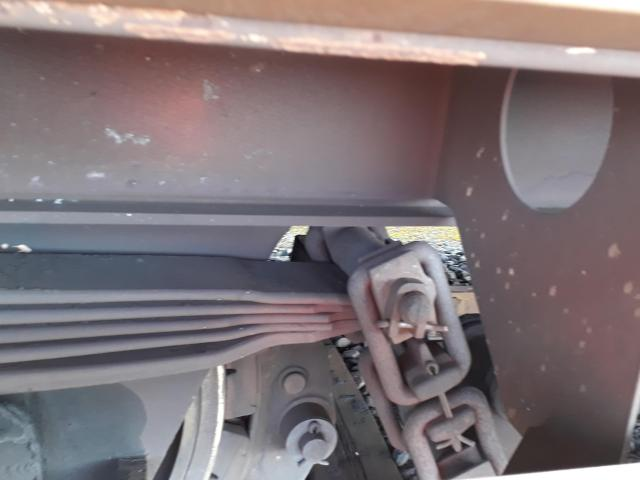blattfederww: (1, 268, 341, 392)
